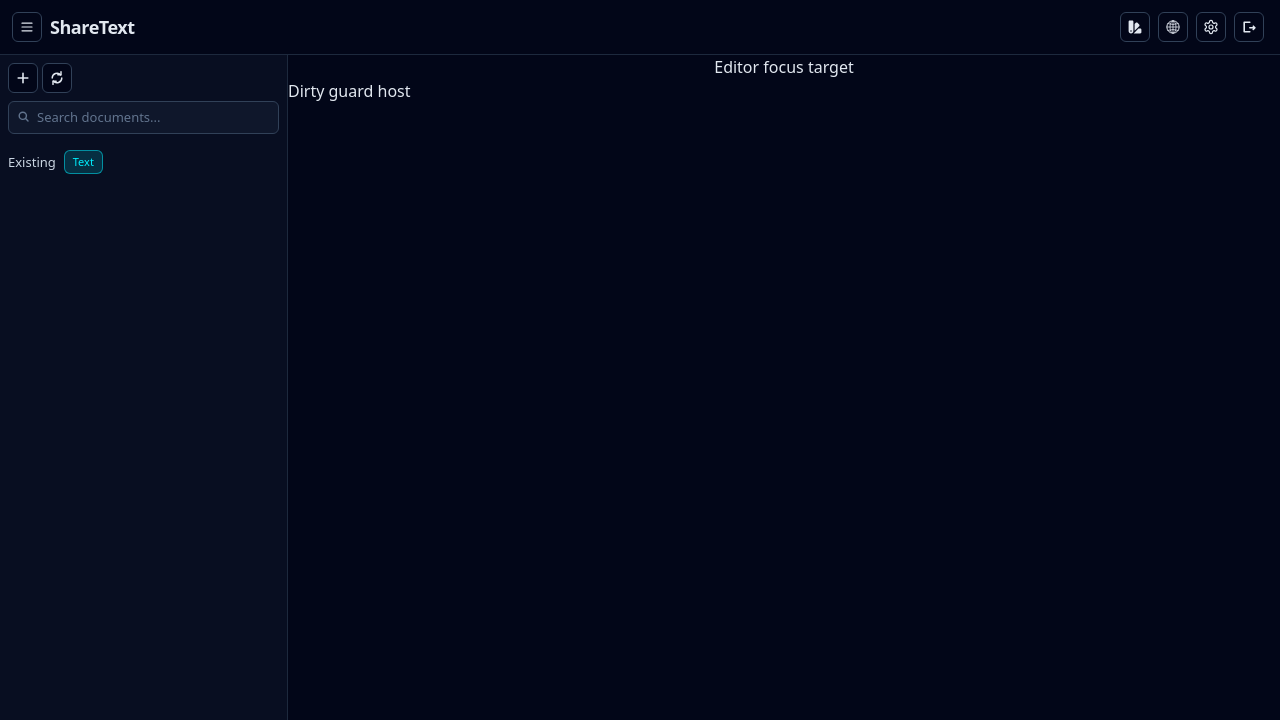
Test: Collapse document list focus › prompts to discard unsaved changes before opening settings
Expected: the text "Existing" is shown, [8, 153, 56, 171]
Click the button named "Settings" at (1211, 27), box [1196, 12, 1226, 42]
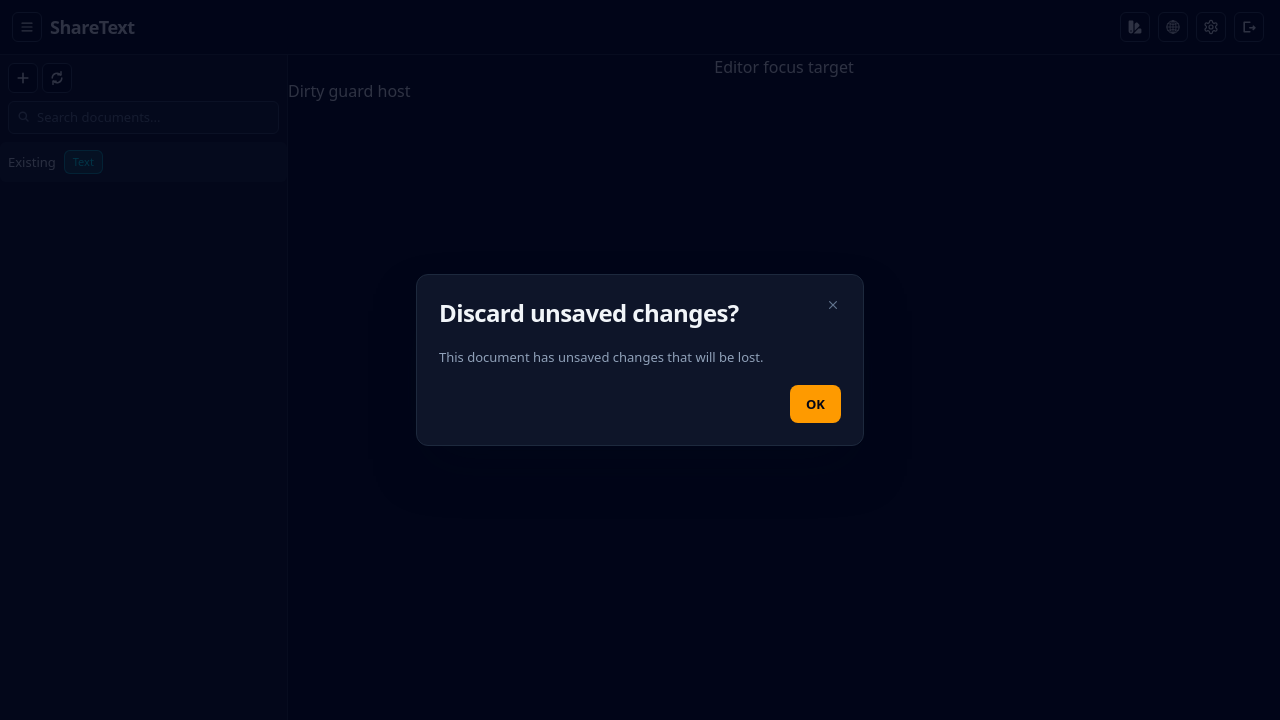
Expected: the heading "Discard unsaved changes?" is shown, [439, 296, 739, 329]
